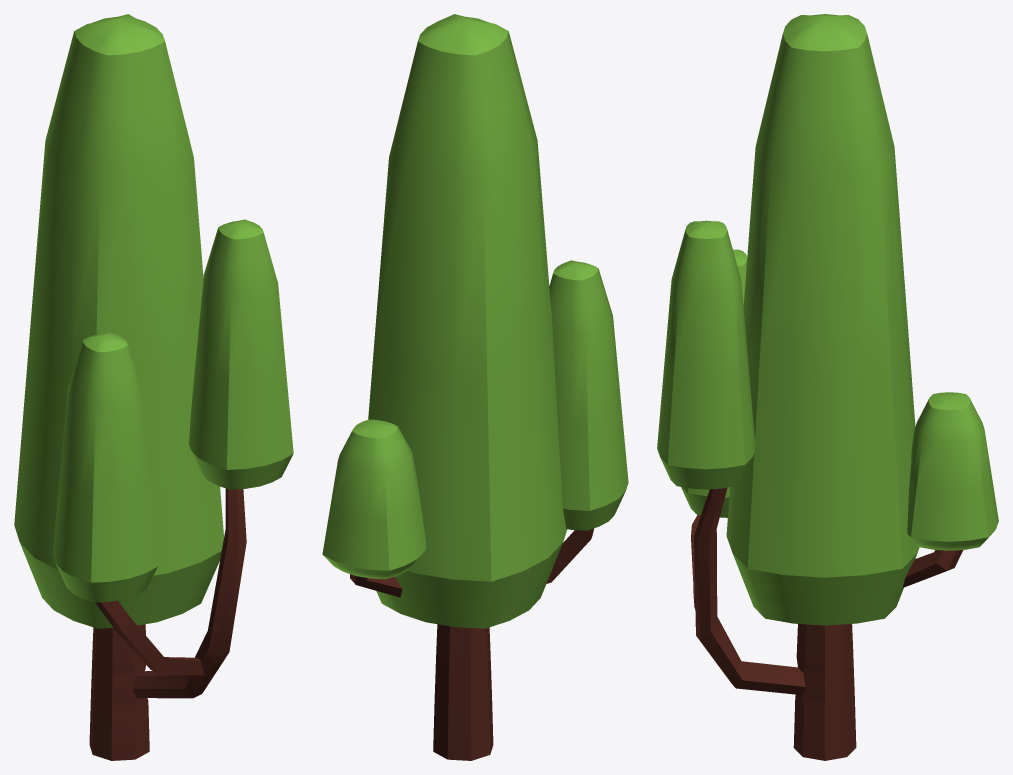
File: Tree4.fbx
3 views of the same model, side by side, from view 1: azimuth 30°, elevation 25°; view 2: azimuth 150°, elevation 25°; view 3: azimuth 270°, elevation 25° (orthographic).
Parts seen in each view (by area): view 1: Cylinder.001; view 2: Cylinder.001; view 3: Cylinder.001.
Boxes of the visible parts, x1,y1,x2,y2 form: Cylinder.001: (14, 14, 293, 760); Cylinder.001: (322, 14, 628, 760); Cylinder.001: (657, 14, 998, 760).
Size of the model in its own units: 636 by 2101 by 890.
